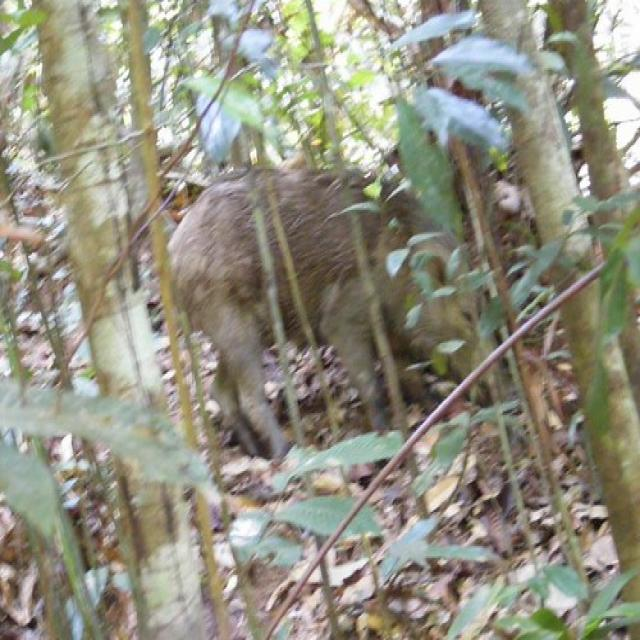boar: (157, 148, 523, 466)
